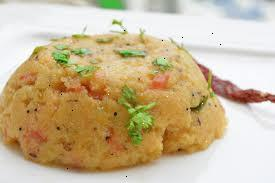upma: (3, 29, 236, 174)
